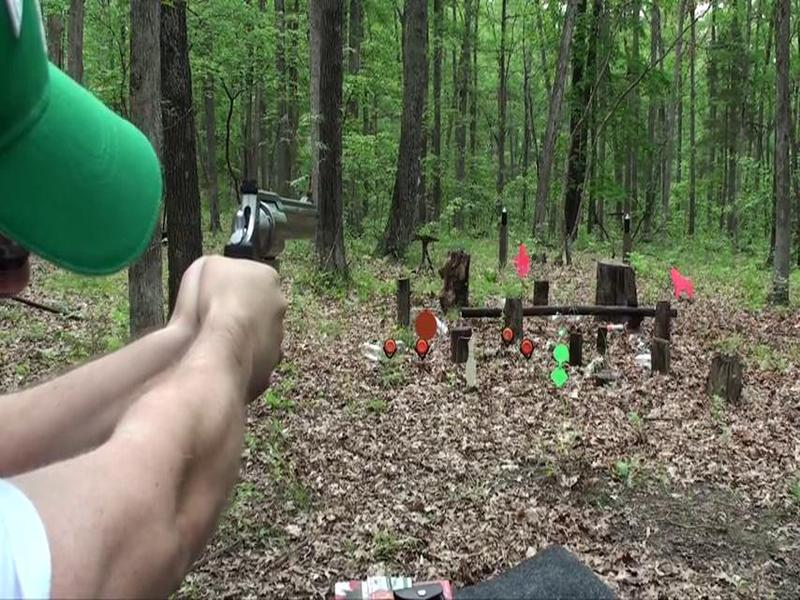Revolver: (179, 183, 329, 311)
